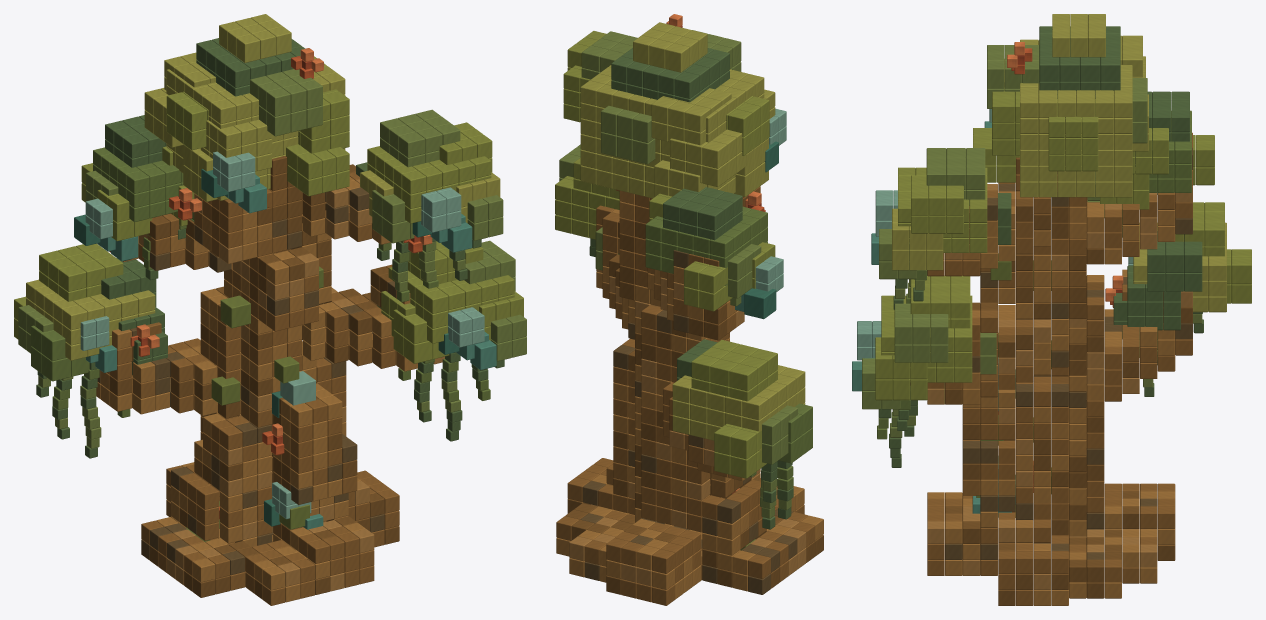
File: SM_Blender_AncientTree.glb
3 views of the same model, side by side, from view 1: azimuth 30°, elevation 25°; view 2: azimuth 150°, elevation 25°; view 3: azimuth 270°, elevation 25° (orthographic). The views are drawn at different scales.
Visible parts, largest first — view 1: SM_Blender_AncientTree; view 2: SM_Blender_AncientTree; view 3: SM_Blender_AncientTree.
Part boxes in pixels (x1,y1,x2,y2): SM_Blender_AncientTree: [14, 14, 526, 605]; SM_Blender_AncientTree: [555, 14, 823, 605]; SM_Blender_AncientTree: [852, 14, 1251, 605].
Size of the model in its own units: 3.12 by 4.43 by 3.05.
1 material, 1 textured.
